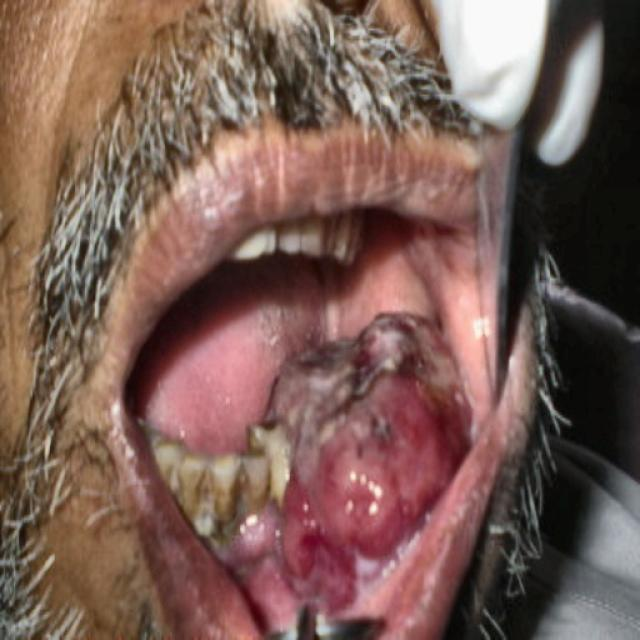cancer-detection: (270, 311, 474, 611)
processing_area: (148, 245, 482, 632)
